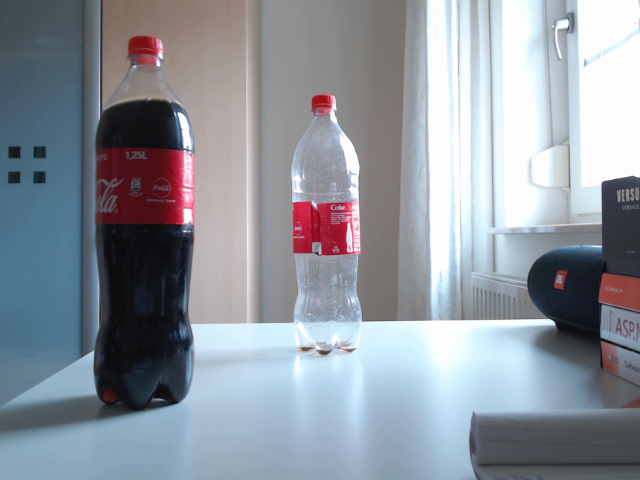bottle: (92, 35, 195, 413), (290, 94, 361, 356)
